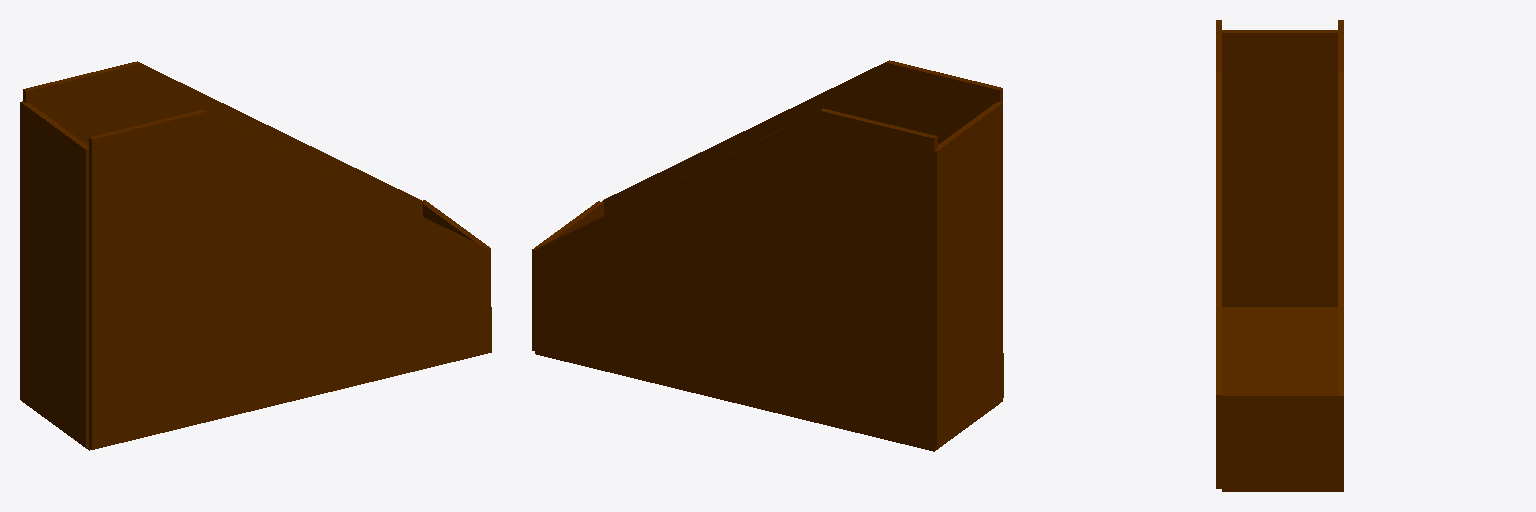
robot.urdf — bucket:
<robot name="bucket">
  <link name="bucket_body">
    <inertial>
      <mass value="0"/>
      <inertia ixx="100" ixy="0" ixz="0" iyy="100" iyz="0" izz="100" />
    </inertial>
    <collision>
      <origin xyz="0 0 0" />
      <geometry>
        <box size="0.7 0.2 0.01" />
      </geometry>
    </collision>
    <visual>
      <origin xyz="0 0 0" />
      <material name="c">
        <color rgba="0.4 0.2 0 1.0" />
      </material>
      <geometry>
        <box size="0.7 0.2 0.01" />
      </geometry>
    </visual>
    <collision>
      <origin xyz="0.35 0 .085" />
      <geometry>
        <box size="0.01 0.2 0.17" />
      </geometry>
    </collision>
    <visual>
      <origin xyz="0.35 0 .085" />
      <material name="c">
        <color rgba="0.4 0.2 0 1.0" />
      </material>
      <geometry>
        <box size="0.01 0.2 0.17" />
      </geometry>
    </visual>
    <collision>
      <origin xyz="-0.35 0 .25" />
      <geometry>
        <box size="0.01 0.2 0.5" />
      </geometry>
    </collision>
    <visual>
      <origin xyz="-0.35 0 .25" />
      <material name="c">
        <color rgba="0.4 0.2 0 1.0" />
      </material>
      <geometry>
        <box size="0.01 0.2 0.5" />
      </geometry>
    </visual>
    <collision>
      <origin rpy="1.57 0 0" xyz="-0.35 0.1 0" />
      <geometry>
        <mesh filename="package://meshes/bucket_side.stl" scale="0.001 0.001 0.001"/>
      </geometry>
    </collision>
    <visual>
      <origin rpy="1.57 0 0" xyz="-0.35 0.1 0" />
      <material name="c">
        <color rgba="0.4 0.2 0 1.0" />
      </material>
      <geometry>
        <mesh filename="package://meshes/bucket_side.stl" scale="0.001 0.001 0.001"/>
      </geometry>
    </visual>
    <collision>
      <origin rpy="1.57 0 0" xyz="-0.35 -0.1 0" />
      <geometry>
        <mesh filename="package://meshes/bucket_side.stl" scale="0.001 0.001 0.001"/>
      </geometry>
    </collision>
    <visual>
      <origin rpy="1.57 0 0" xyz="-0.35 -0.1 0" />
      <material name="c">
        <color rgba="0.4 0.2 0 1.0" />
      </material>
      <geometry>
        <mesh filename="package://meshes/bucket_side.stl" scale="0.001 0.001 0.001"/>
      </geometry>
    </visual>
  </link>
</robot>

--- What the picture shows (computed from the rendered views, not written in the file) ---
3 views of the same robot in one strip: view 1: azimuth 30°, elevation 25°; view 2: azimuth 150°, elevation 25°; view 3: azimuth 270°, elevation 25° (orthographic).
Robot: bucket — 1 links, 0 joints (none); root link bucket_body; default pose: all joints at 0.
Links seen in each view (by area): view 1: bucket_body; view 2: bucket_body; view 3: bucket_body.
Link boxes in pixels (x1,y1,x2,y2): bucket_body: [20, 61, 491, 450]; bucket_body: [532, 60, 1003, 451]; bucket_body: [1216, 20, 1343, 491].
Bounding box of the posed robot: 0.71 × 0.2104 × 0.525 m (x, y, z).
Meshes: 1 distinct files referenced, 2 mesh visuals loaded (1 binary STL).